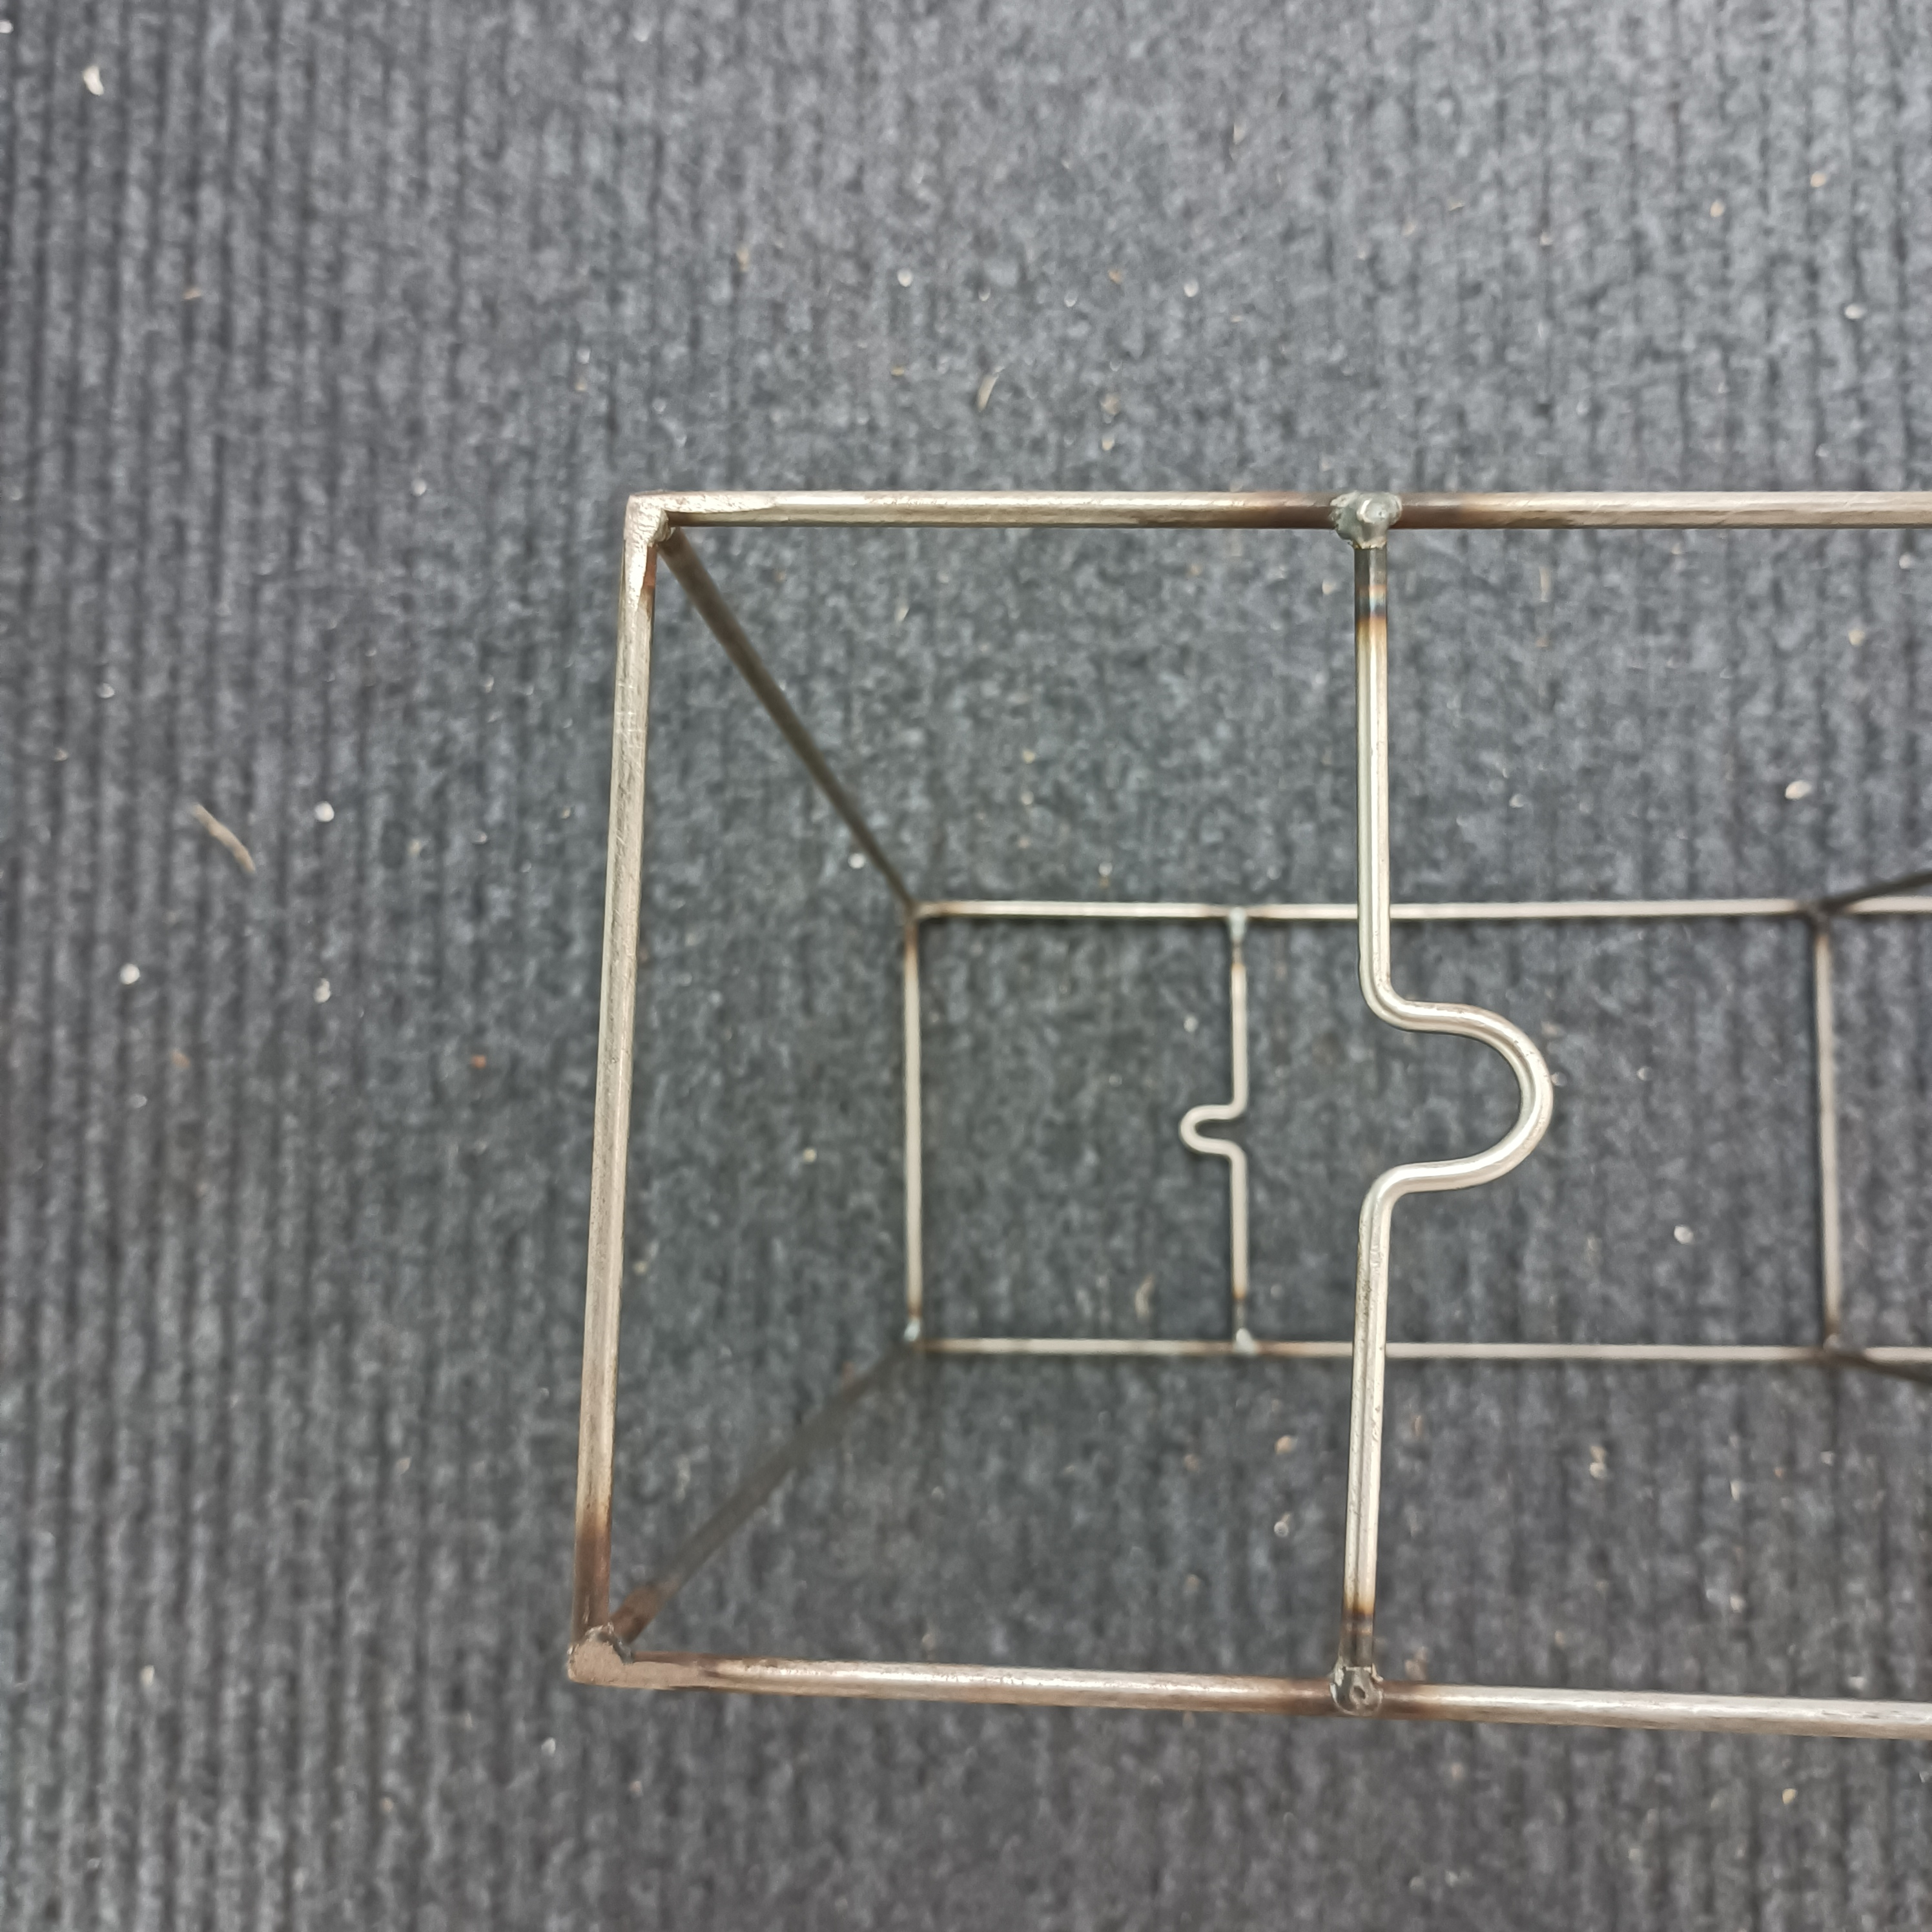curvedhole: (925, 375, 1265, 584), (1065, 672, 1191, 759)
